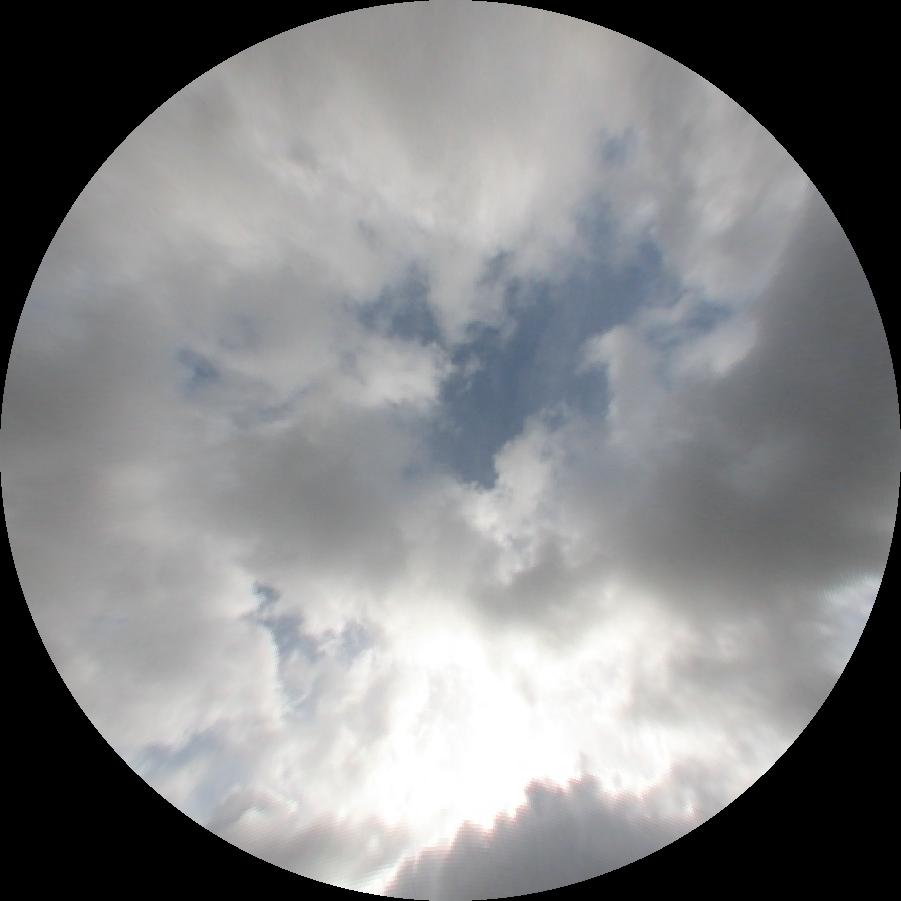sun: (388, 671, 554, 826)
